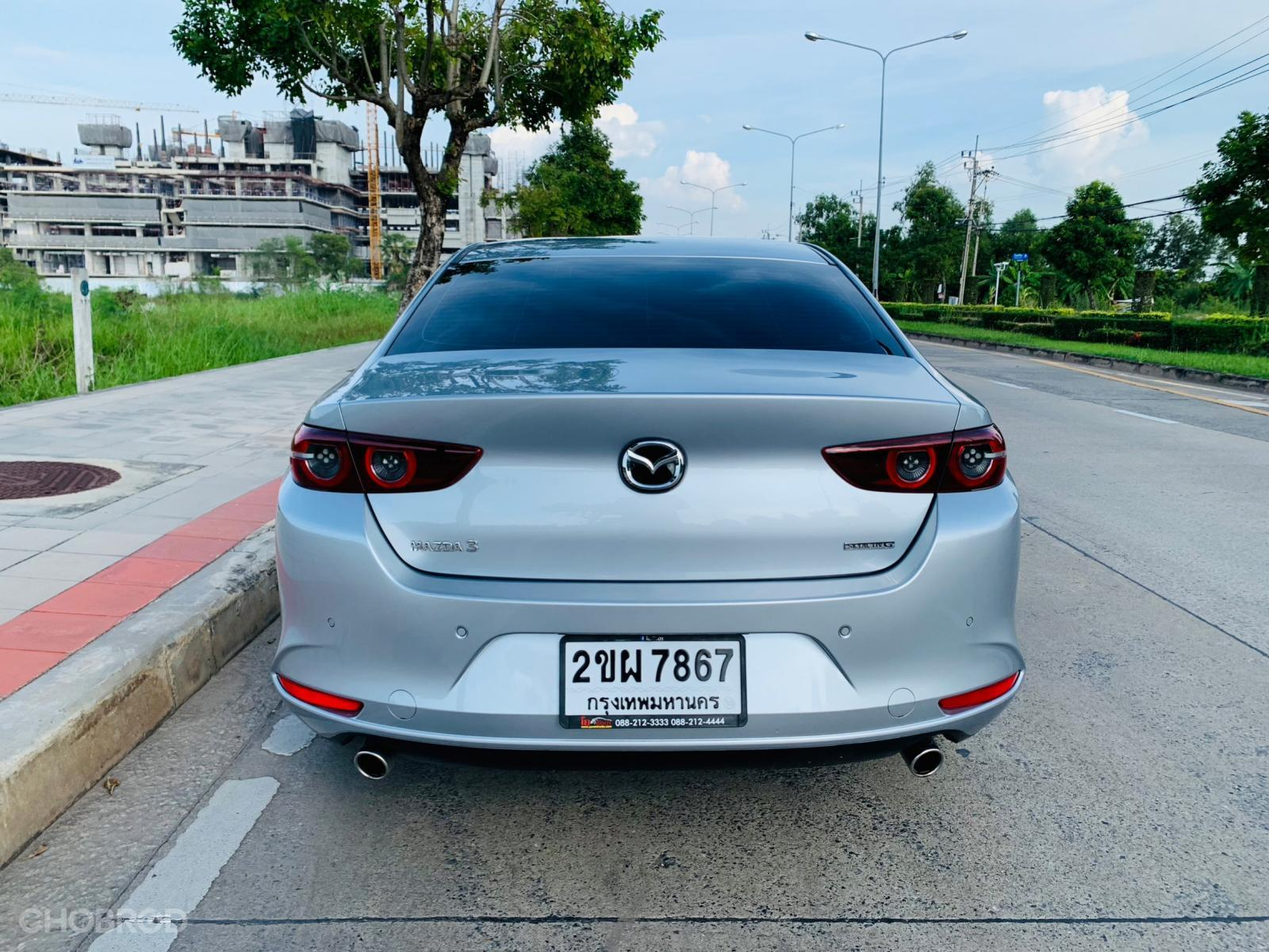license-plate: (558, 631, 751, 733)
